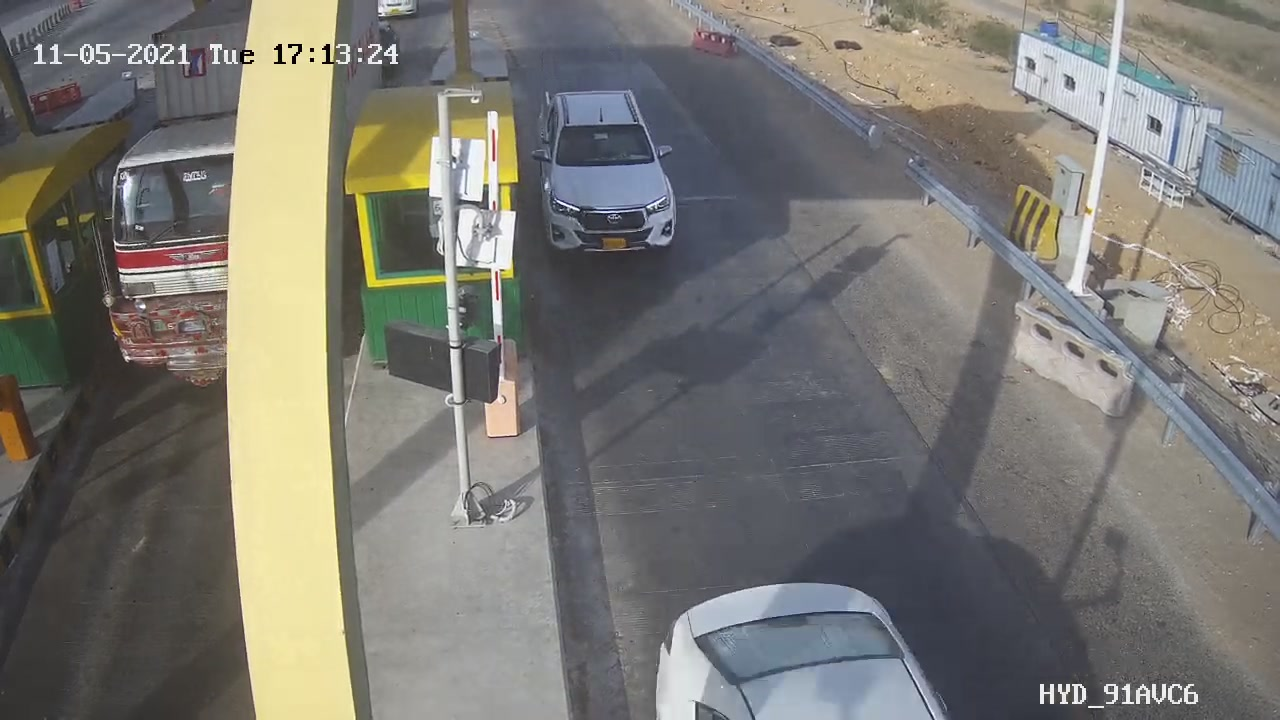F1: (516, 69, 703, 279)
